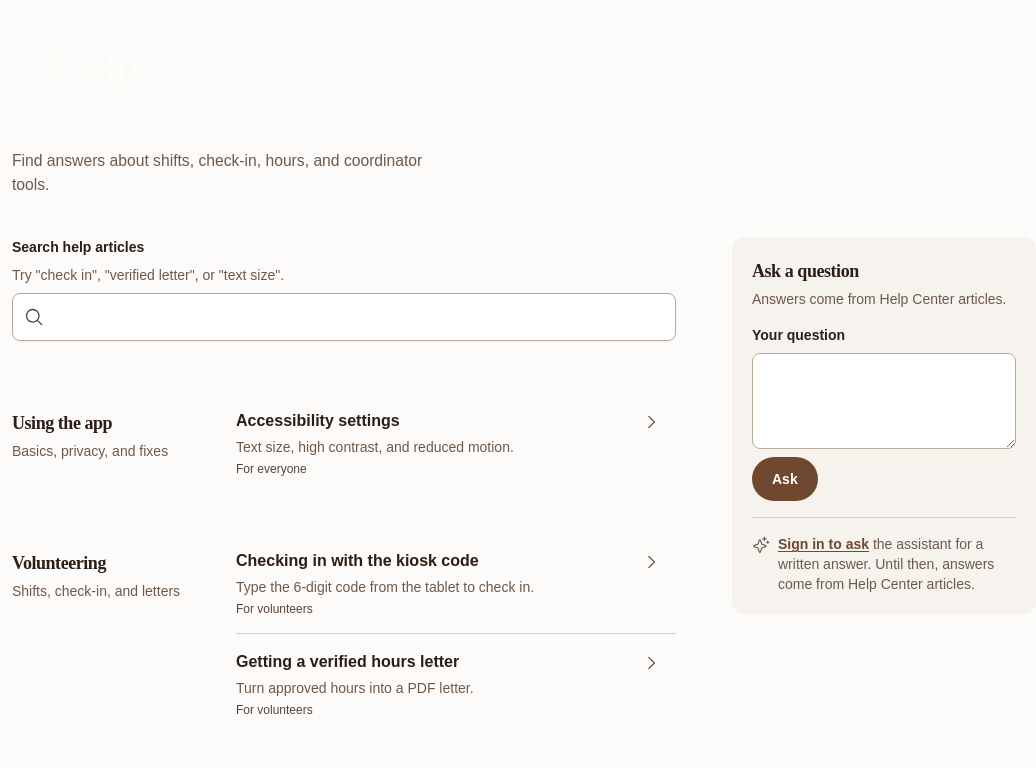
it: Help Center home › tells the user when a question matches nothing or is empty
The image size is (1036, 768).
Click the button "Ask": (785, 479) [752,457,818,501]
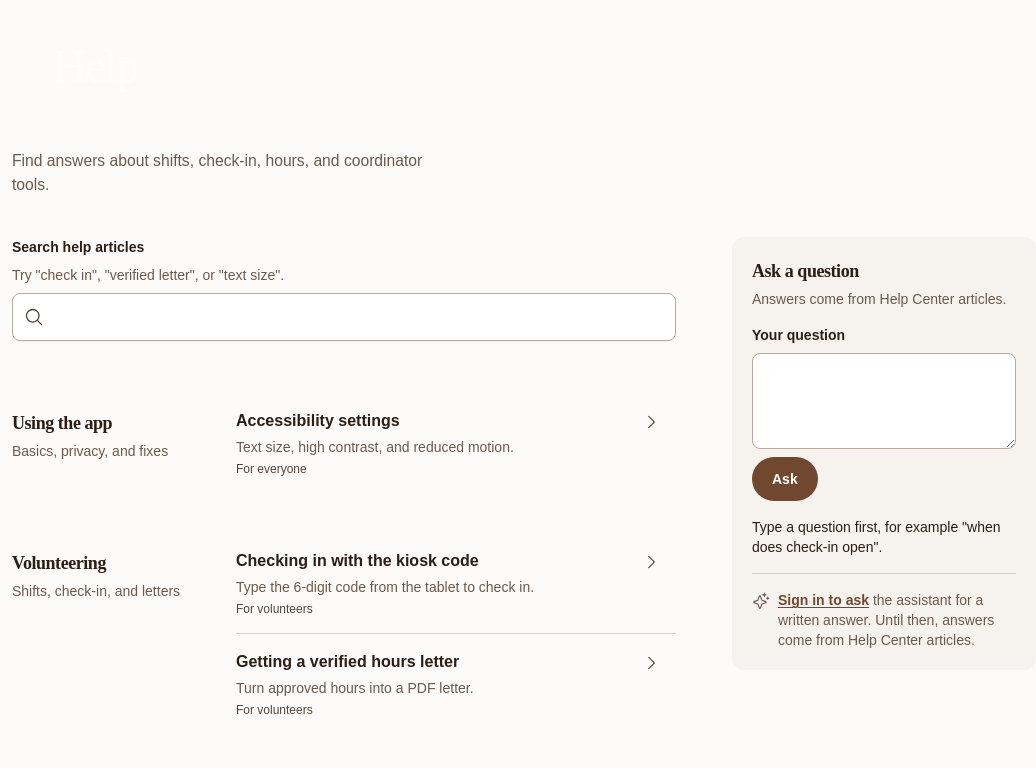
expect the text "Type a question first" is shown: met, box [752,519,1000,555]
In the text box labelled "Your question": (884, 401) [752,353,1016,449], type "qqqq zzzz"
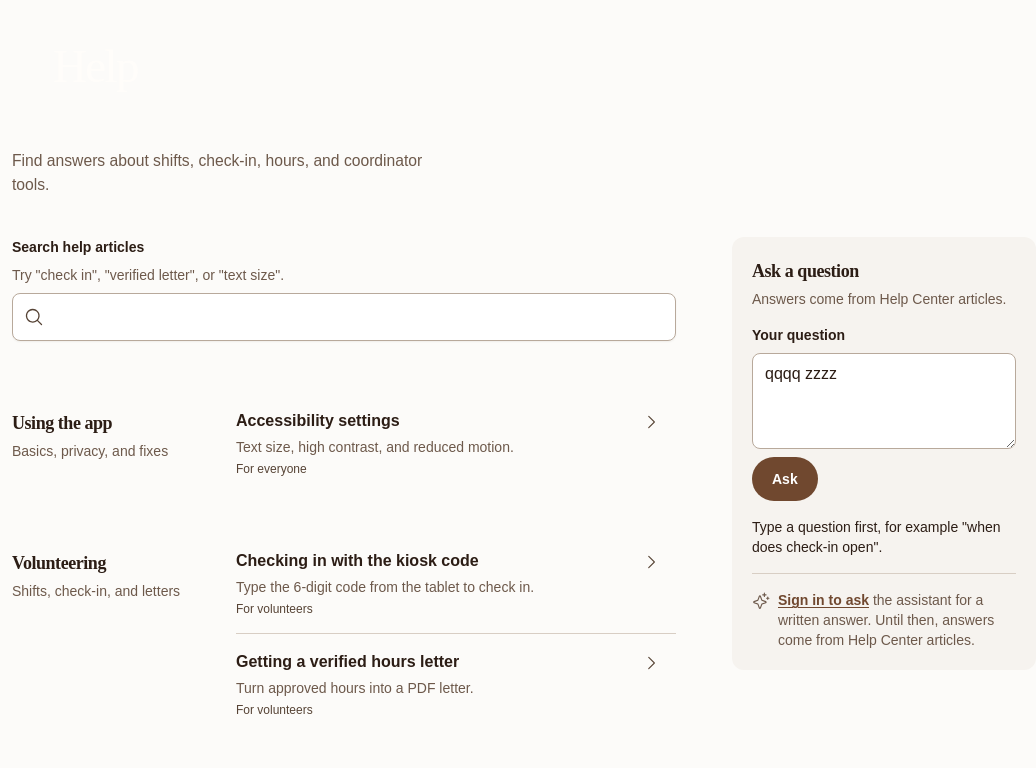
Click the button "Ask": (785, 479) [752,457,818,501]
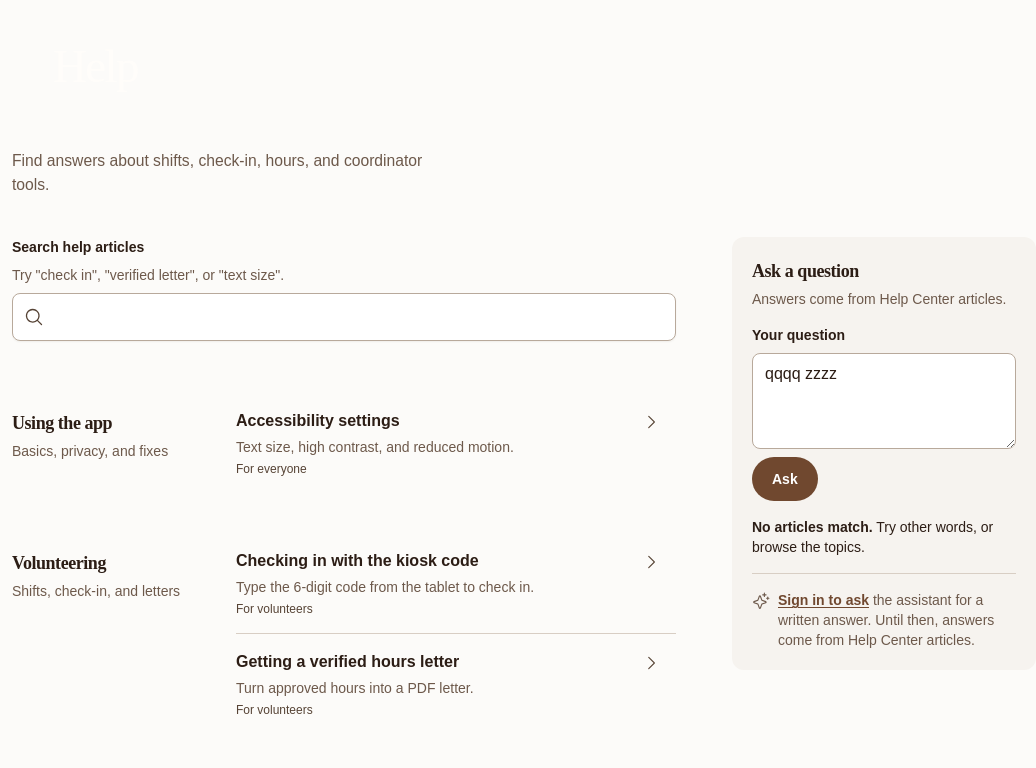
expect the text "No articles match. Try other words, or browse the topics." is shown: met, box [752,517,1016,557]
